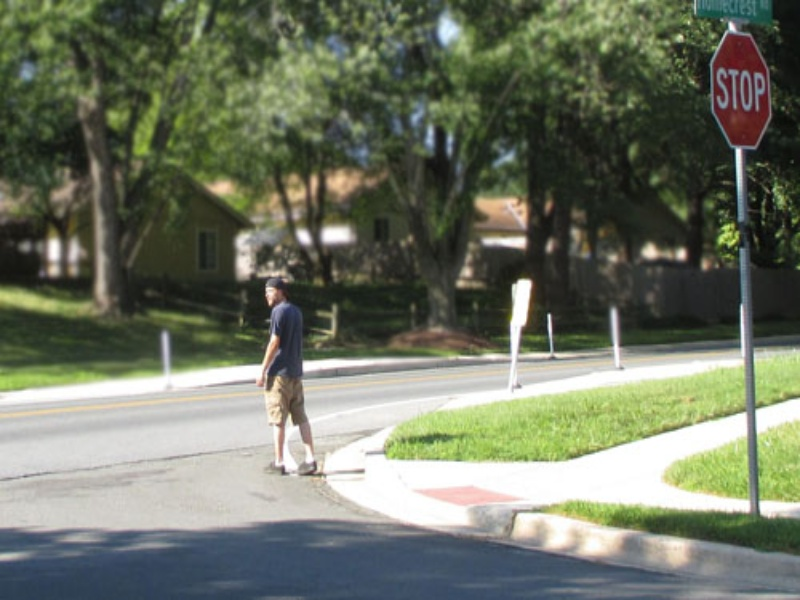stop sign: (706, 30, 777, 153)
